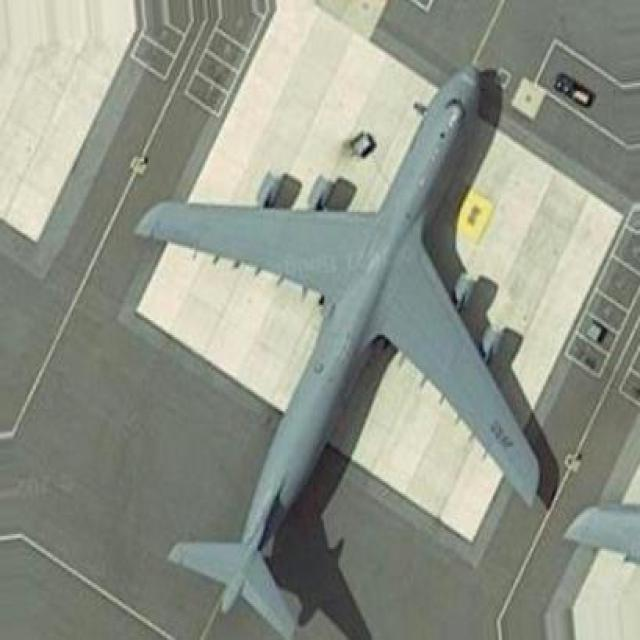C-5_TopDown: (130, 59, 559, 638)
